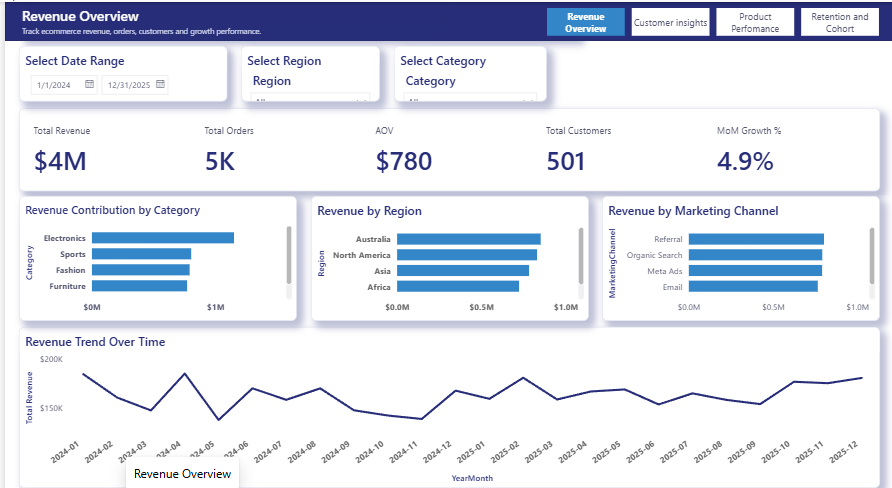

The dashboard page shown, as its layout file describes it:
{"tool":"powerbi","page":{"name":"Revenue Overview","canvas":[1280,720],"ordinal":0},"visuals":[{"type":"card","title":"Revenue","fields":{"Values":["Ecommerce_Sales_Dataset_PowerBI.Total Revenue"]},"box":[0,23.5,218.1,112.4],"z":0},{"type":"card","title":"Orders","fields":{"Values":["Ecommerce_Sales_Dataset_PowerBI.Total Orders"]},"box":[203,23.5,216.4,112.4],"z":1000},{"type":"card","title":"Customers","fields":{"Values":["Ecommerce_Sales_Dataset_PowerBI.Total Customers"]},"box":[419.4,23.5,152.7,112.4],"z":2000},{"type":"card","title":"AOV","fields":{"Values":["Ecommerce_Sales_Dataset_PowerBI.AOV"]},"box":[572.1,23.5,179.5,112.4],"z":3000},{"type":"lineChart","title":" Revenue by YearMonth","fields":{"Category":["Ecommerce_Sales_Dataset_PowerBI.YearMonth"],"Y":["Ecommerce_Sales_Dataset_PowerBI.Total Revenue"]},"box":[0,154.3,662.6,293.6],"z":4000},{"type":"clusteredBarChart","title":" Revenue by Category","fields":{"Category":["Ecommerce_Sales_Dataset_PowerBI.Category"],"Y":["Ecommerce_Sales_Dataset_PowerBI.Total Revenue"]},"box":[0,479.8,640.8,239.9],"z":5000},{"type":"clusteredBarChart","title":"Revenue by Region","fields":{"Category":["Ecommerce_Sales_Dataset_PowerBI.Region"],"Y":["Ecommerce_Sales_Dataset_PowerBI.Total Revenue"]},"box":[769.8,178.5,510.7,282.4],"z":6000},{"type":"slicer","title":"Select Date Range","fields":{"Values":["Ecommerce_Sales_Dataset_PowerBI.OrderDate"]},"box":[954.1,502,324.9,172.7],"z":7000},{"type":"slicer","title":"Select Region","fields":{"Values":["Ecommerce_Sales_Dataset_PowerBI.Region"]},"box":[695.1,522.4,234.1,153.7],"z":8000},{"type":"card","title":"MoM Growth","fields":{"Values":["Ecommerce_Sales_Dataset_PowerBI.MoM Growth %"]},"box":[812.2,2.9,250.2,152.2],"z":9000}]}

Visuals, with their boxes in screenshot pixels (x1, y1, x2, y2), scaled from the page's 1280x720 canvas onto the 892x488 screenshot:
"Revenue" card: box(0, 16, 152, 92)
"Orders" card: box(141, 16, 292, 92)
"Customers" card: box(292, 16, 399, 92)
"AOV" card: box(399, 16, 524, 92)
" Revenue by YearMonth" lineChart: box(0, 105, 462, 304)
" Revenue by Category" clusteredBarChart: box(0, 325, 447, 487)
"Revenue by Region" clusteredBarChart: box(536, 121, 891, 312)
"Select Date Range" slicer: box(665, 340, 891, 457)
"Select Region" slicer: box(484, 354, 648, 458)
"MoM Growth" card: box(566, 2, 740, 105)
